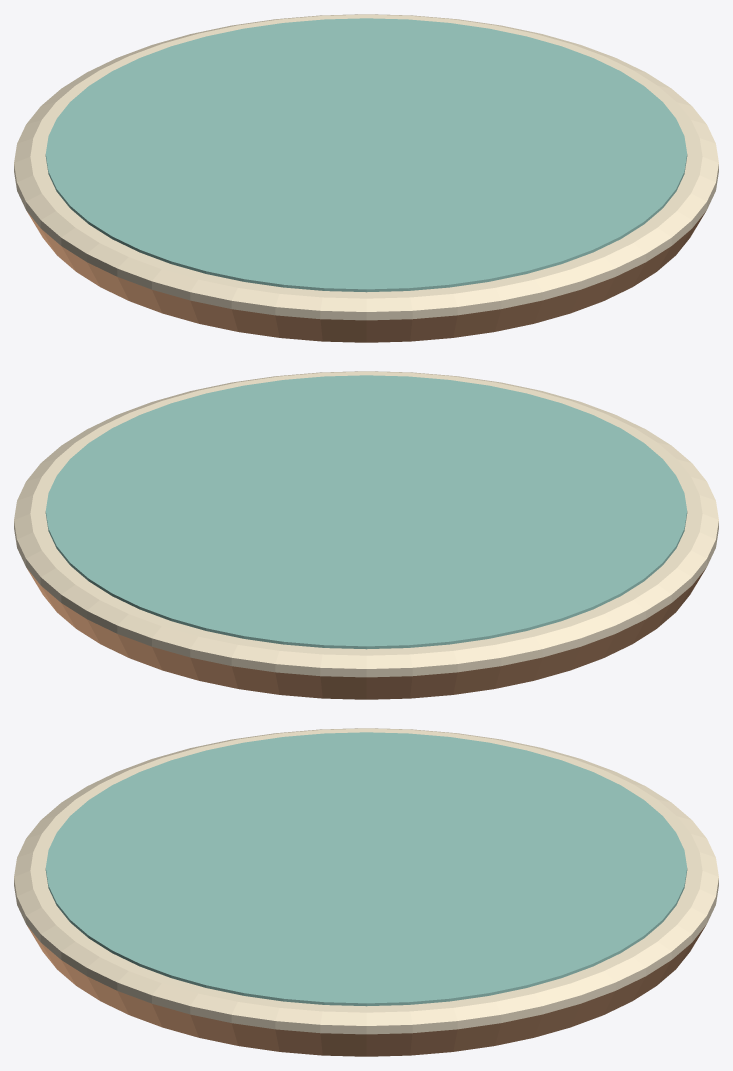
Rendered from ShowcaseTurntable.glb.
3 renders of one model, top to bottom at view 1: azimuth 30°, elevation 25°; view 2: azimuth 150°, elevation 25°; view 3: azimuth 270°, elevation 25°, orthographic.
Parts seen in each view (by area): view 1: ShowcaseTurntable; view 2: ShowcaseTurntable; view 3: ShowcaseTurntable.
Part boxes in pixels (left/top/right/bottom): ShowcaseTurntable: left=14, top=14, right=718, bottom=342; ShowcaseTurntable: left=14, top=371, right=718, bottom=699; ShowcaseTurntable: left=14, top=728, right=718, bottom=1056.
Size of the model in its own units: 6.88 by 0.51 by 6.88.
